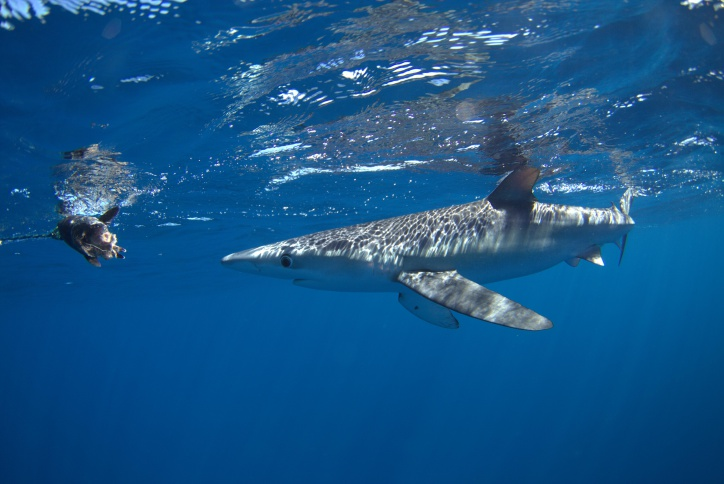Azul: (200, 161, 647, 346)
